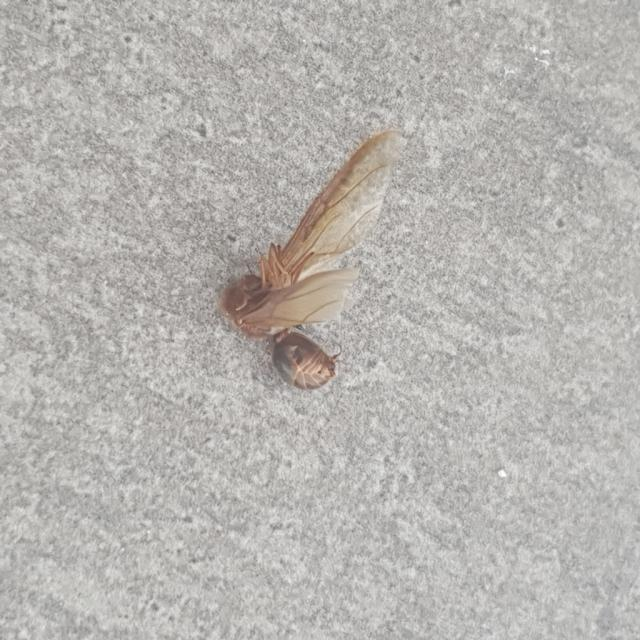Dead-Male-Alate: (219, 130, 397, 390)
